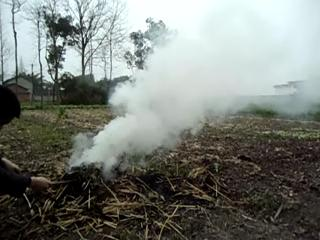yanwu: (76, 13, 278, 167)
